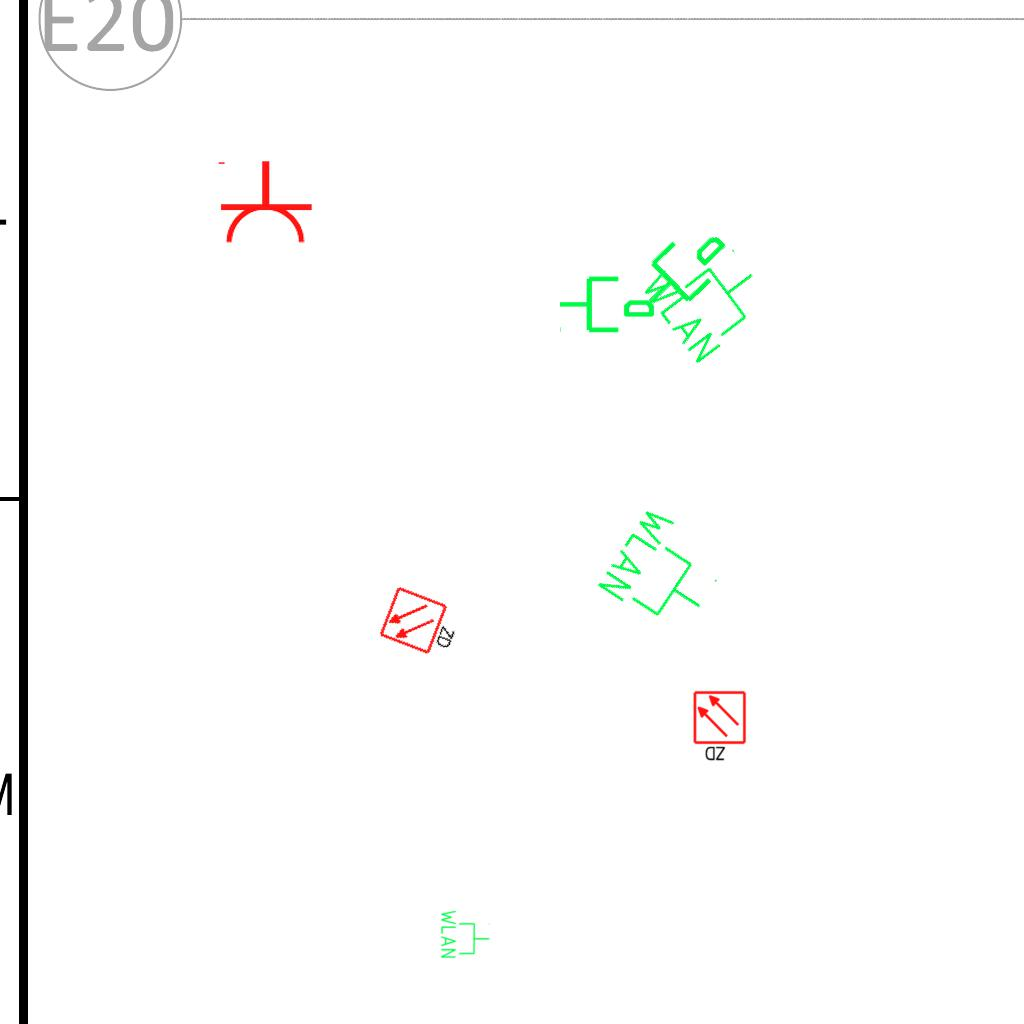Datenanschluss_einfach: (622, 208, 743, 328), (557, 268, 657, 337)
Schukosteckdose_einfach: (214, 159, 314, 246)
WLAN: (633, 223, 781, 370), (591, 499, 737, 644), (439, 908, 491, 960)
ZD_Melder_in_Zwischendecke_mit_Revisionsoeffnung_mind_40_x_40_cm: (377, 583, 468, 663), (692, 690, 749, 764)
